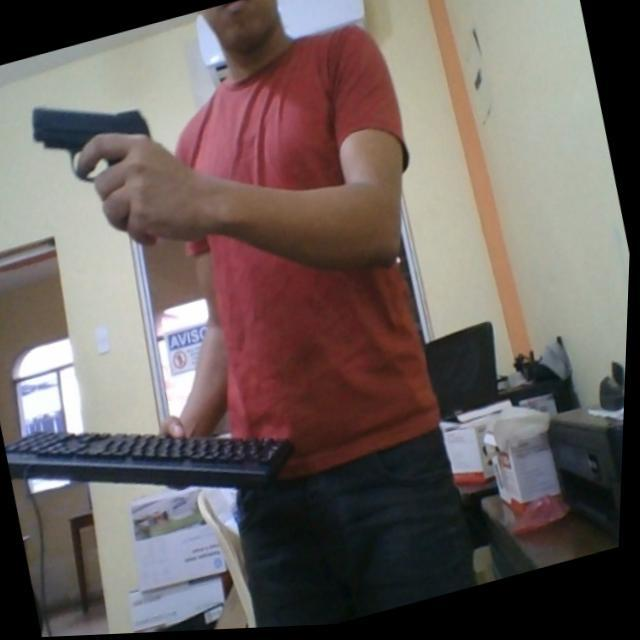weapon: (21, 73, 168, 204)
